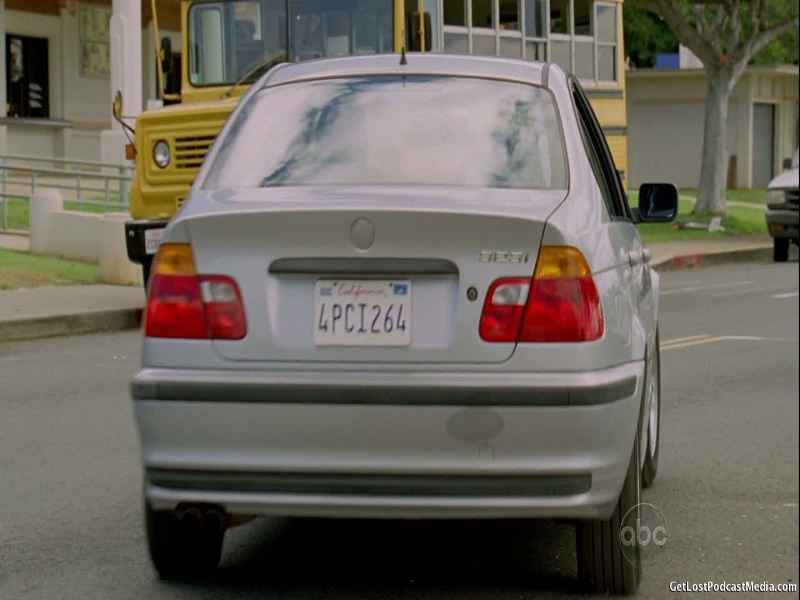licence plate: (313, 277, 412, 348)
